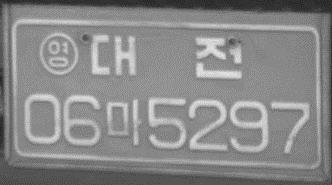0: (22, 92, 62, 146)
2: (187, 97, 229, 154)
5: (146, 94, 188, 150)
6: (62, 94, 101, 147)
7: (268, 99, 311, 154)
9: (229, 99, 269, 153)
대전_D: (89, 32, 244, 81)
마: (103, 96, 144, 148)
영: (38, 31, 79, 77)
